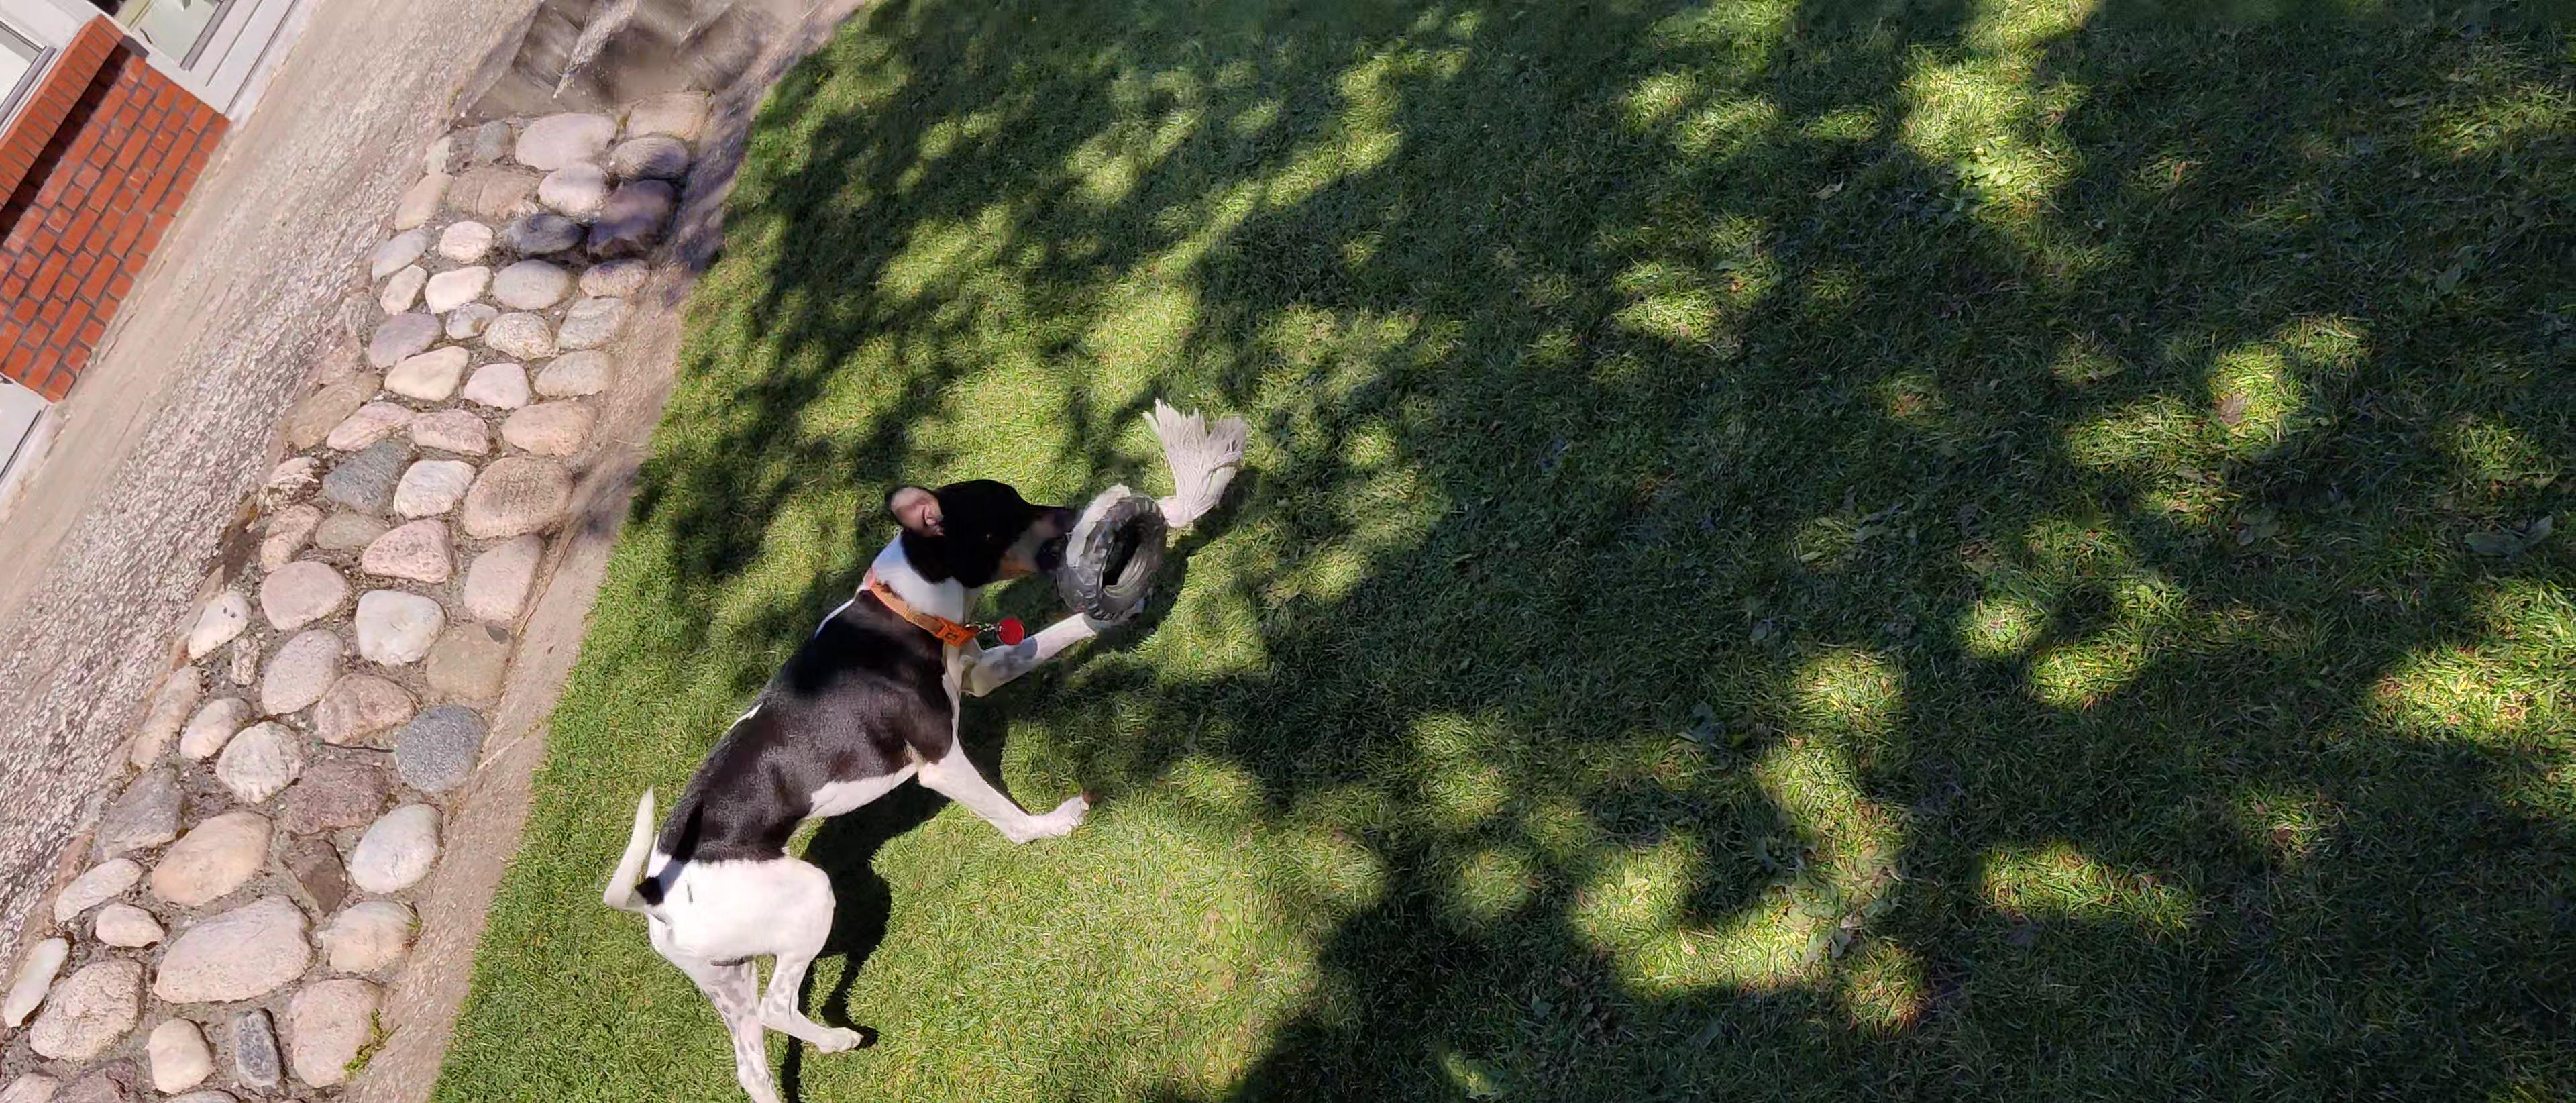Dog: (601, 470, 1102, 1103)
